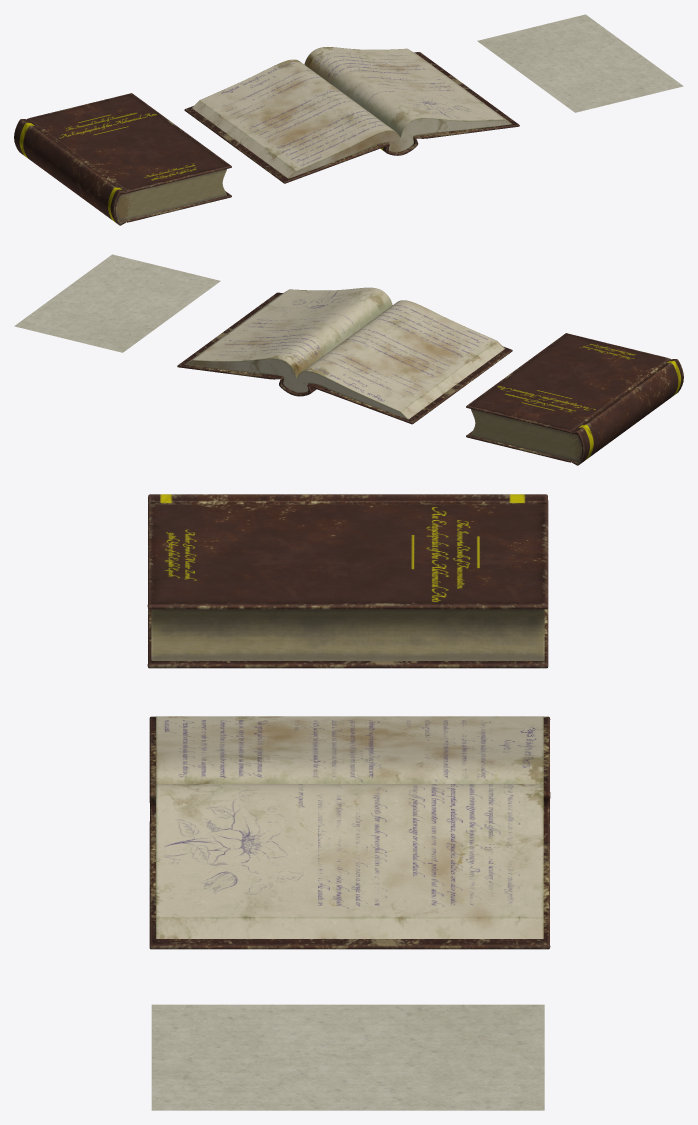
Rendered from book.glb.
3 renders of one model, top to bottom at view 1: azimuth 30°, elevation 25°; view 2: azimuth 150°, elevation 25°; view 3: azimuth 270°, elevation 25°, orthographic. The views are drawn at different scales.
Parts seen in each view (by area): view 1: OpenPages, Book, Page, Pages, Book.001; view 2: OpenPages, Book, Page, Pages, Book.001; view 3: OpenPages, Book, Page, Pages, Book.001.
Part boxes in pixels (box(x1,y1,x2,y2)): OpenPages: box(192, 47, 511, 178); Book: box(14, 93, 231, 225); Page: box(477, 14, 683, 112); Pages: box(116, 169, 227, 221); Book.001: box(184, 52, 519, 183); OpenPages: box(185, 287, 504, 419); Book: box(466, 333, 683, 465); Page: box(14, 254, 220, 352); Pages: box(470, 409, 581, 461); Book.001: box(177, 292, 512, 424); OpenPages: box(156, 716, 543, 938); Book: box(147, 494, 548, 668); Page: box(151, 1004, 544, 1110); Pages: box(151, 609, 544, 660); Book.001: box(149, 716, 550, 949).
Bounding box in the file's own units: 0.8544 × 0.0489 × 0.2607.
1 material, 1 textured.
